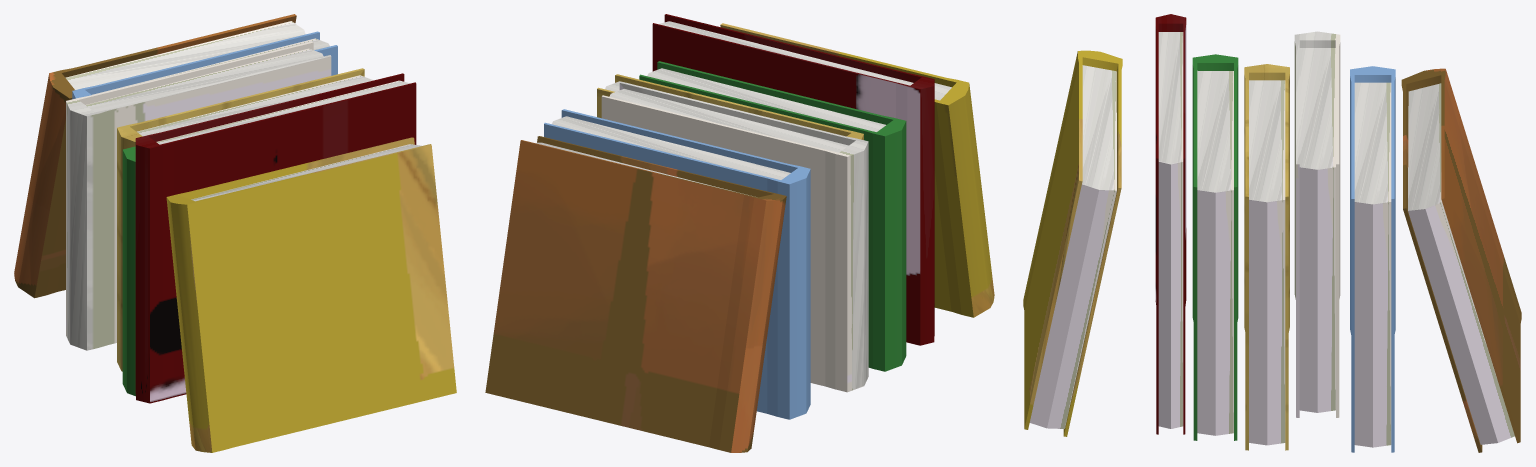
File: BookBundle.glb
3 views of the same model, side by side, from view 1: azimuth 30°, elevation 25°; view 2: azimuth 150°, elevation 25°; view 3: azimuth 270°, elevation 25° (orthographic). The views are drawn at different scales.
Visible parts, largest first — view 1: Cube.2696; view 2: Cube.2696; view 3: Cube.2696.
Boxes of the visible parts, x1,y1,x2,y2 form: Cube.2696: [14, 14, 456, 452]; Cube.2696: [485, 14, 994, 452]; Cube.2696: [1023, 14, 1521, 452].
Bounding box in the file's own units: 0.2408 × 0.2152 × 0.3357.
Materials: 7 (5 with a texture image).
